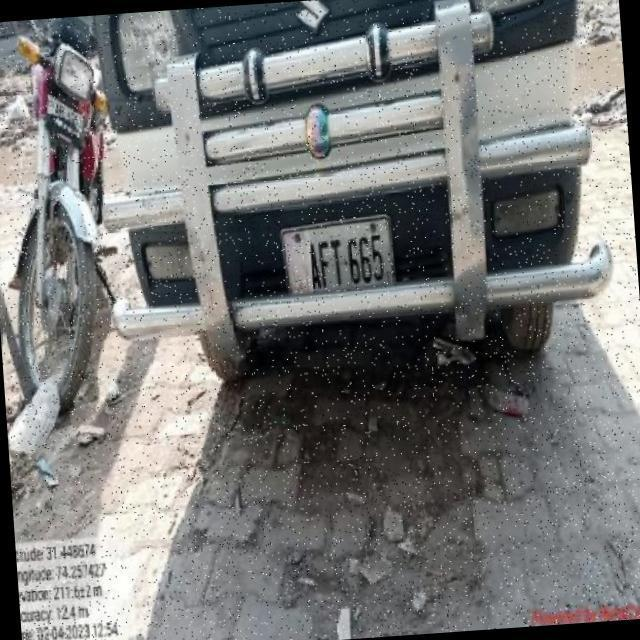License Plate: (279, 214, 396, 302)
